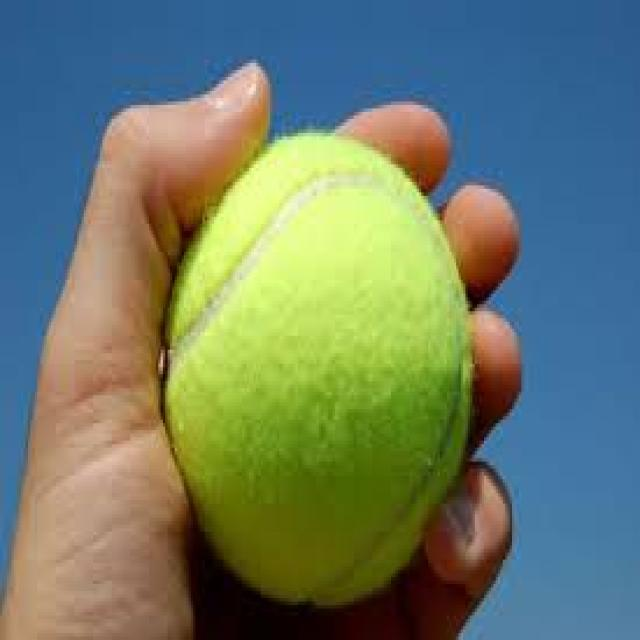ball: (164, 134, 472, 608)
